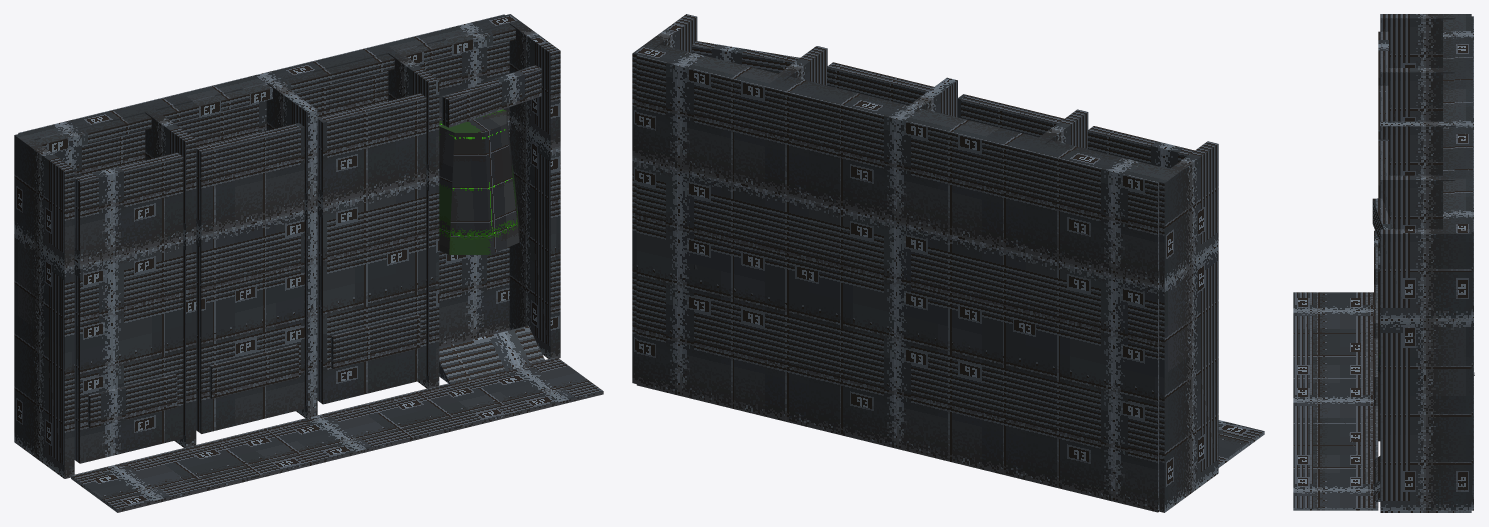
Rendered from eps_arc_early.glb.
The picture shows the model from 3 angles, left to right: view 1: azimuth 30°, elevation 25°; view 2: azimuth 150°, elevation 25°; view 3: azimuth 270°, elevation 25°; orthographic projection. The views are drawn at different scales.
Visible parts, largest first — view 1: eps_arc_early; view 2: eps_arc_early; view 3: eps_arc_early.
Boxes of the visible parts, x1,y1,x2,y2 form: eps_arc_early: (14,14,603,512); eps_arc_early: (632,14,1264,512); eps_arc_early: (1293,14,1474,512).
Size of the model in its own units: 4.9 by 2.9 by 1.71.
3 materials, 2 textured.
